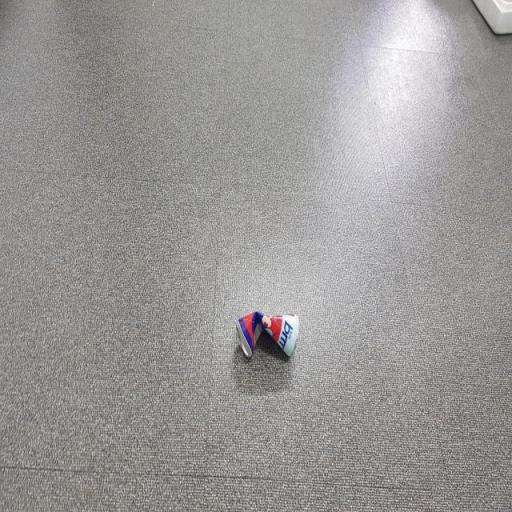metal: (230, 276, 310, 390)
